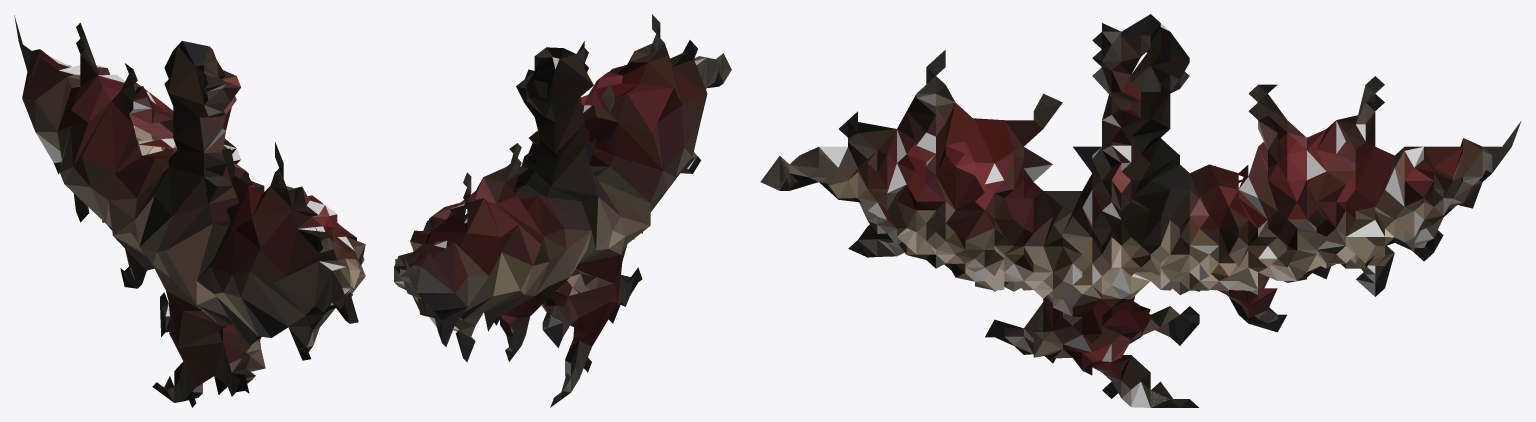
File: B09_3_dragonspine_bow.obj
The picture shows the model from 3 angles, left to right: view 1: azimuth 30°, elevation 25°; view 2: azimuth 150°, elevation 25°; view 3: azimuth 270°, elevation 25°; orthographic projection. The views are drawn at different scales.
Visible parts, largest first — view 1: B09_3_dragonspine_bow; view 2: B09_3_dragonspine_bow; view 3: B09_3_dragonspine_bow.
Part boxes in pixels (<box>): B09_3_dragonspine_bow: <box>14,15,365,407</box>; B09_3_dragonspine_bow: <box>394,14,731,407</box>; B09_3_dragonspine_bow: <box>760,14,1521,407</box>.
Size of the model in its own units: 15 by 45 by 78.
